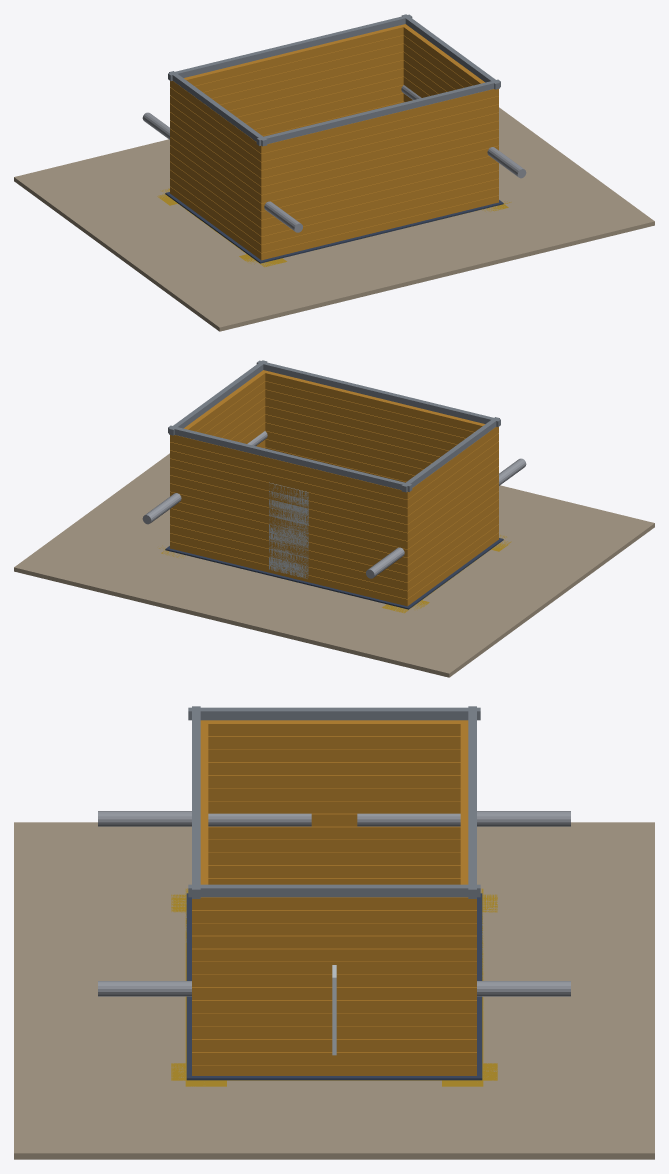
The model's file is stage_07_openings.glb.
3 views of the same model, one above another, from view 1: azimuth 30°, elevation 25°; view 2: azimuth 150°, elevation 25°; view 3: azimuth 270°, elevation 25° (orthographic). The views are drawn at different scales.
Parts seen in each view (by area): view 1: world; view 2: world; view 3: world.
Part boxes in pixels (left/top/right/bottom): world: left=14, top=14, right=654, bottom=331; world: left=14, top=360, right=654, bottom=677; world: left=14, top=706, right=654, bottom=1159.
Bounding box in the file's own units: 11 × 3.74 × 9.
